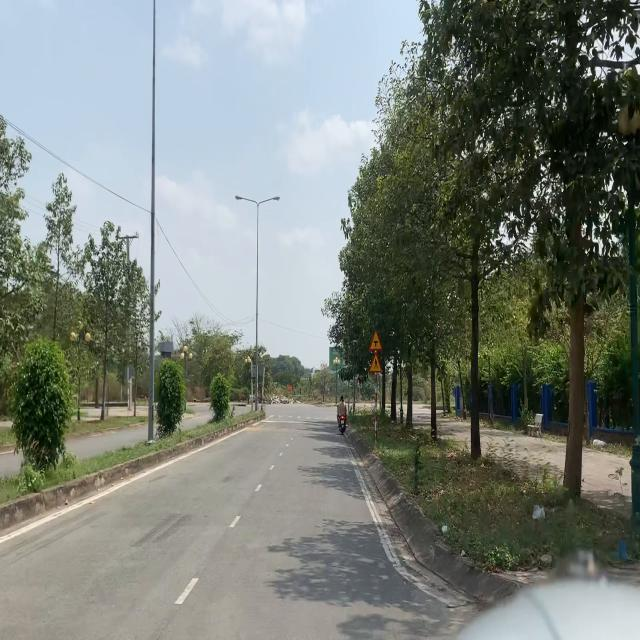Duong giao nhau: (369, 330, 383, 352)
Nguoi di bo cat ngang: (368, 352, 382, 374)
